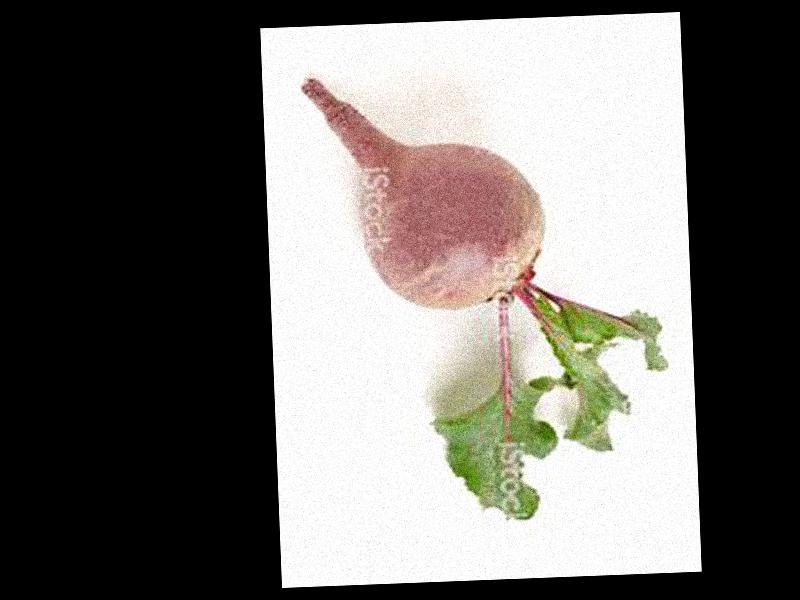Beet: (303, 66, 673, 529)
